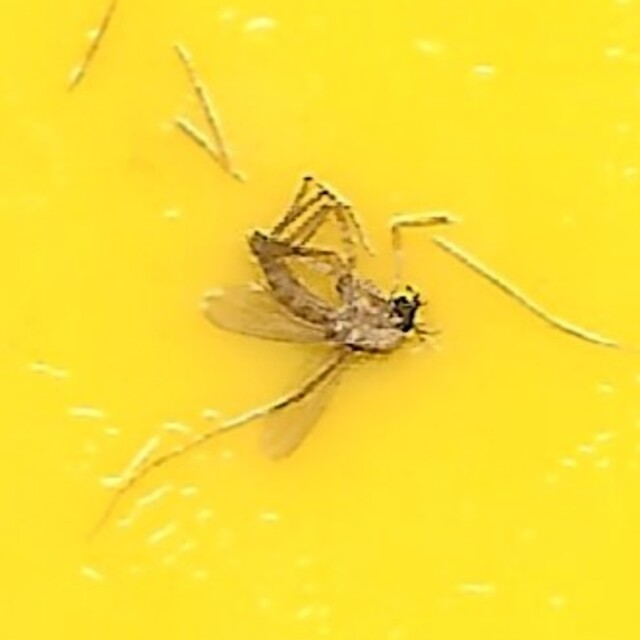Nematocera: (193, 189, 447, 451)
